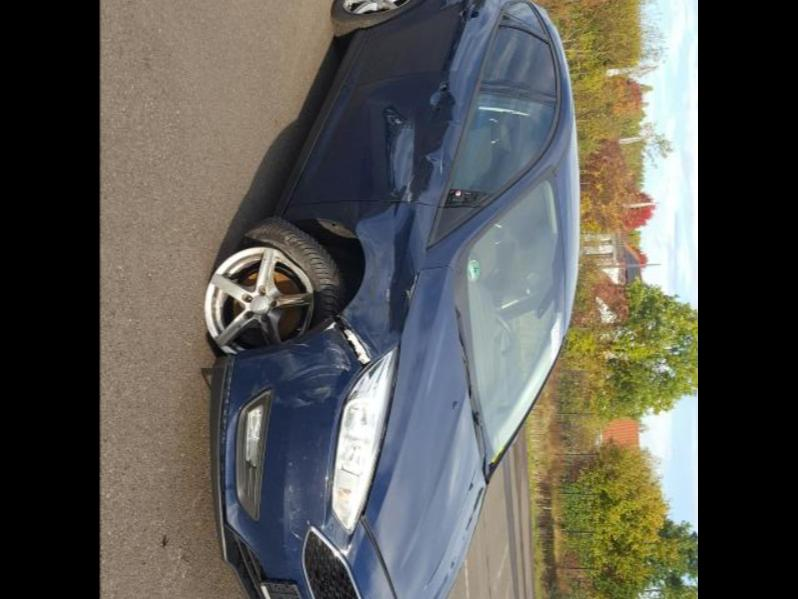Broken part: (204, 221, 344, 352), (358, 512, 400, 599), (218, 354, 237, 524), (328, 314, 372, 368), (316, 218, 358, 238)
Dent: (308, 72, 462, 356)
Missing part: (426, 80, 452, 116), (444, 186, 484, 208)
Paint chip: (264, 342, 342, 406), (322, 336, 354, 372), (404, 272, 420, 304), (428, 142, 444, 174), (398, 174, 416, 200), (380, 282, 394, 310)
